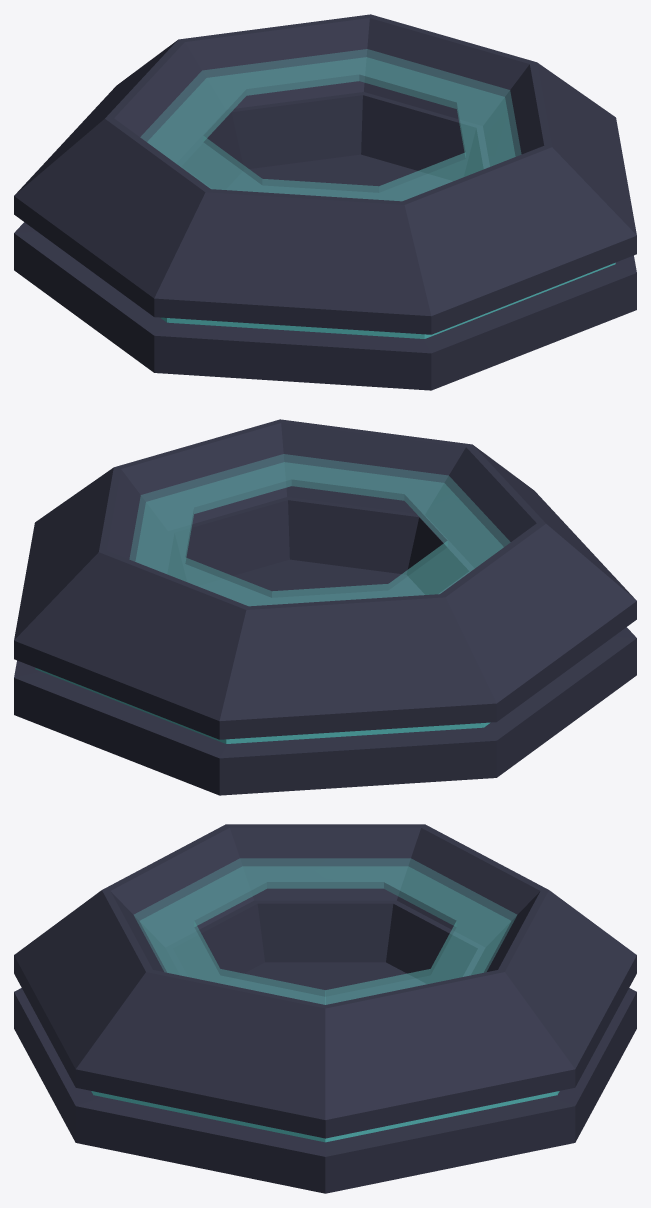
Rendered from plant thing big.fbx.
The picture shows the model from 3 angles, top to bottom: view 1: azimuth 30°, elevation 25°; view 2: azimuth 150°, elevation 25°; view 3: azimuth 270°, elevation 25°; orthographic projection.
Parts seen in each view (by area): view 1: pCylinder7; view 2: pCylinder7; view 3: pCylinder7.
Boxes of the visible parts, x1,y1,x2,y2 form: pCylinder7: (14,14,636,390); pCylinder7: (14,419,636,795); pCylinder7: (14,824,636,1193).
Size of the model in its own units: 1.9 by 0.5081 by 1.95.
